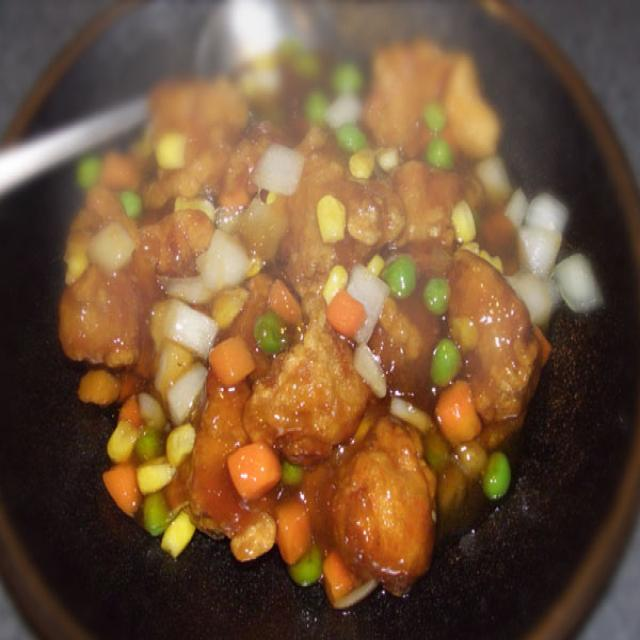猪肉菜式: (58, 40, 602, 610)
